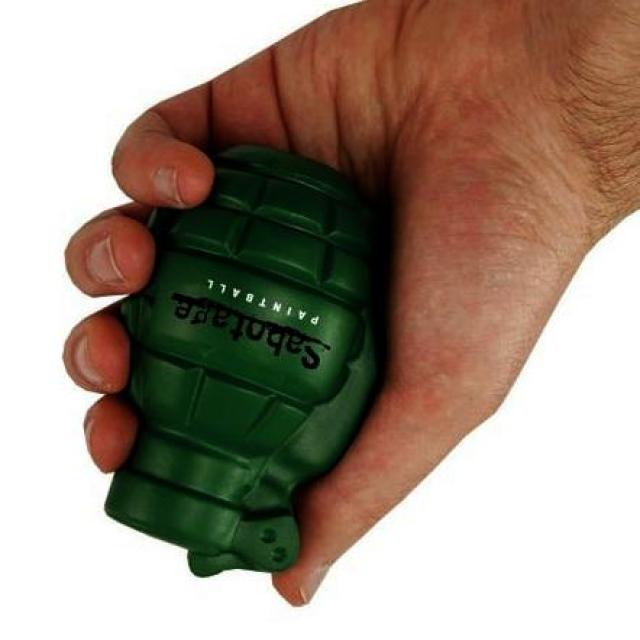grenade: (107, 146, 388, 579)
